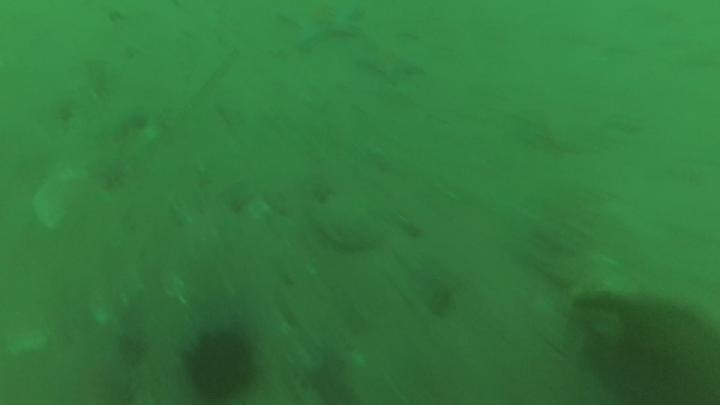echinus: (185, 335, 255, 400)
